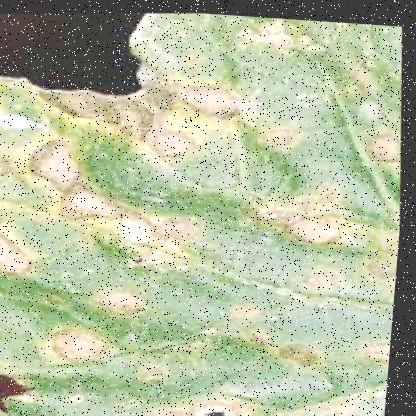Anthracnose: (112, 32, 413, 324), (0, 51, 222, 415), (71, 298, 397, 415)
